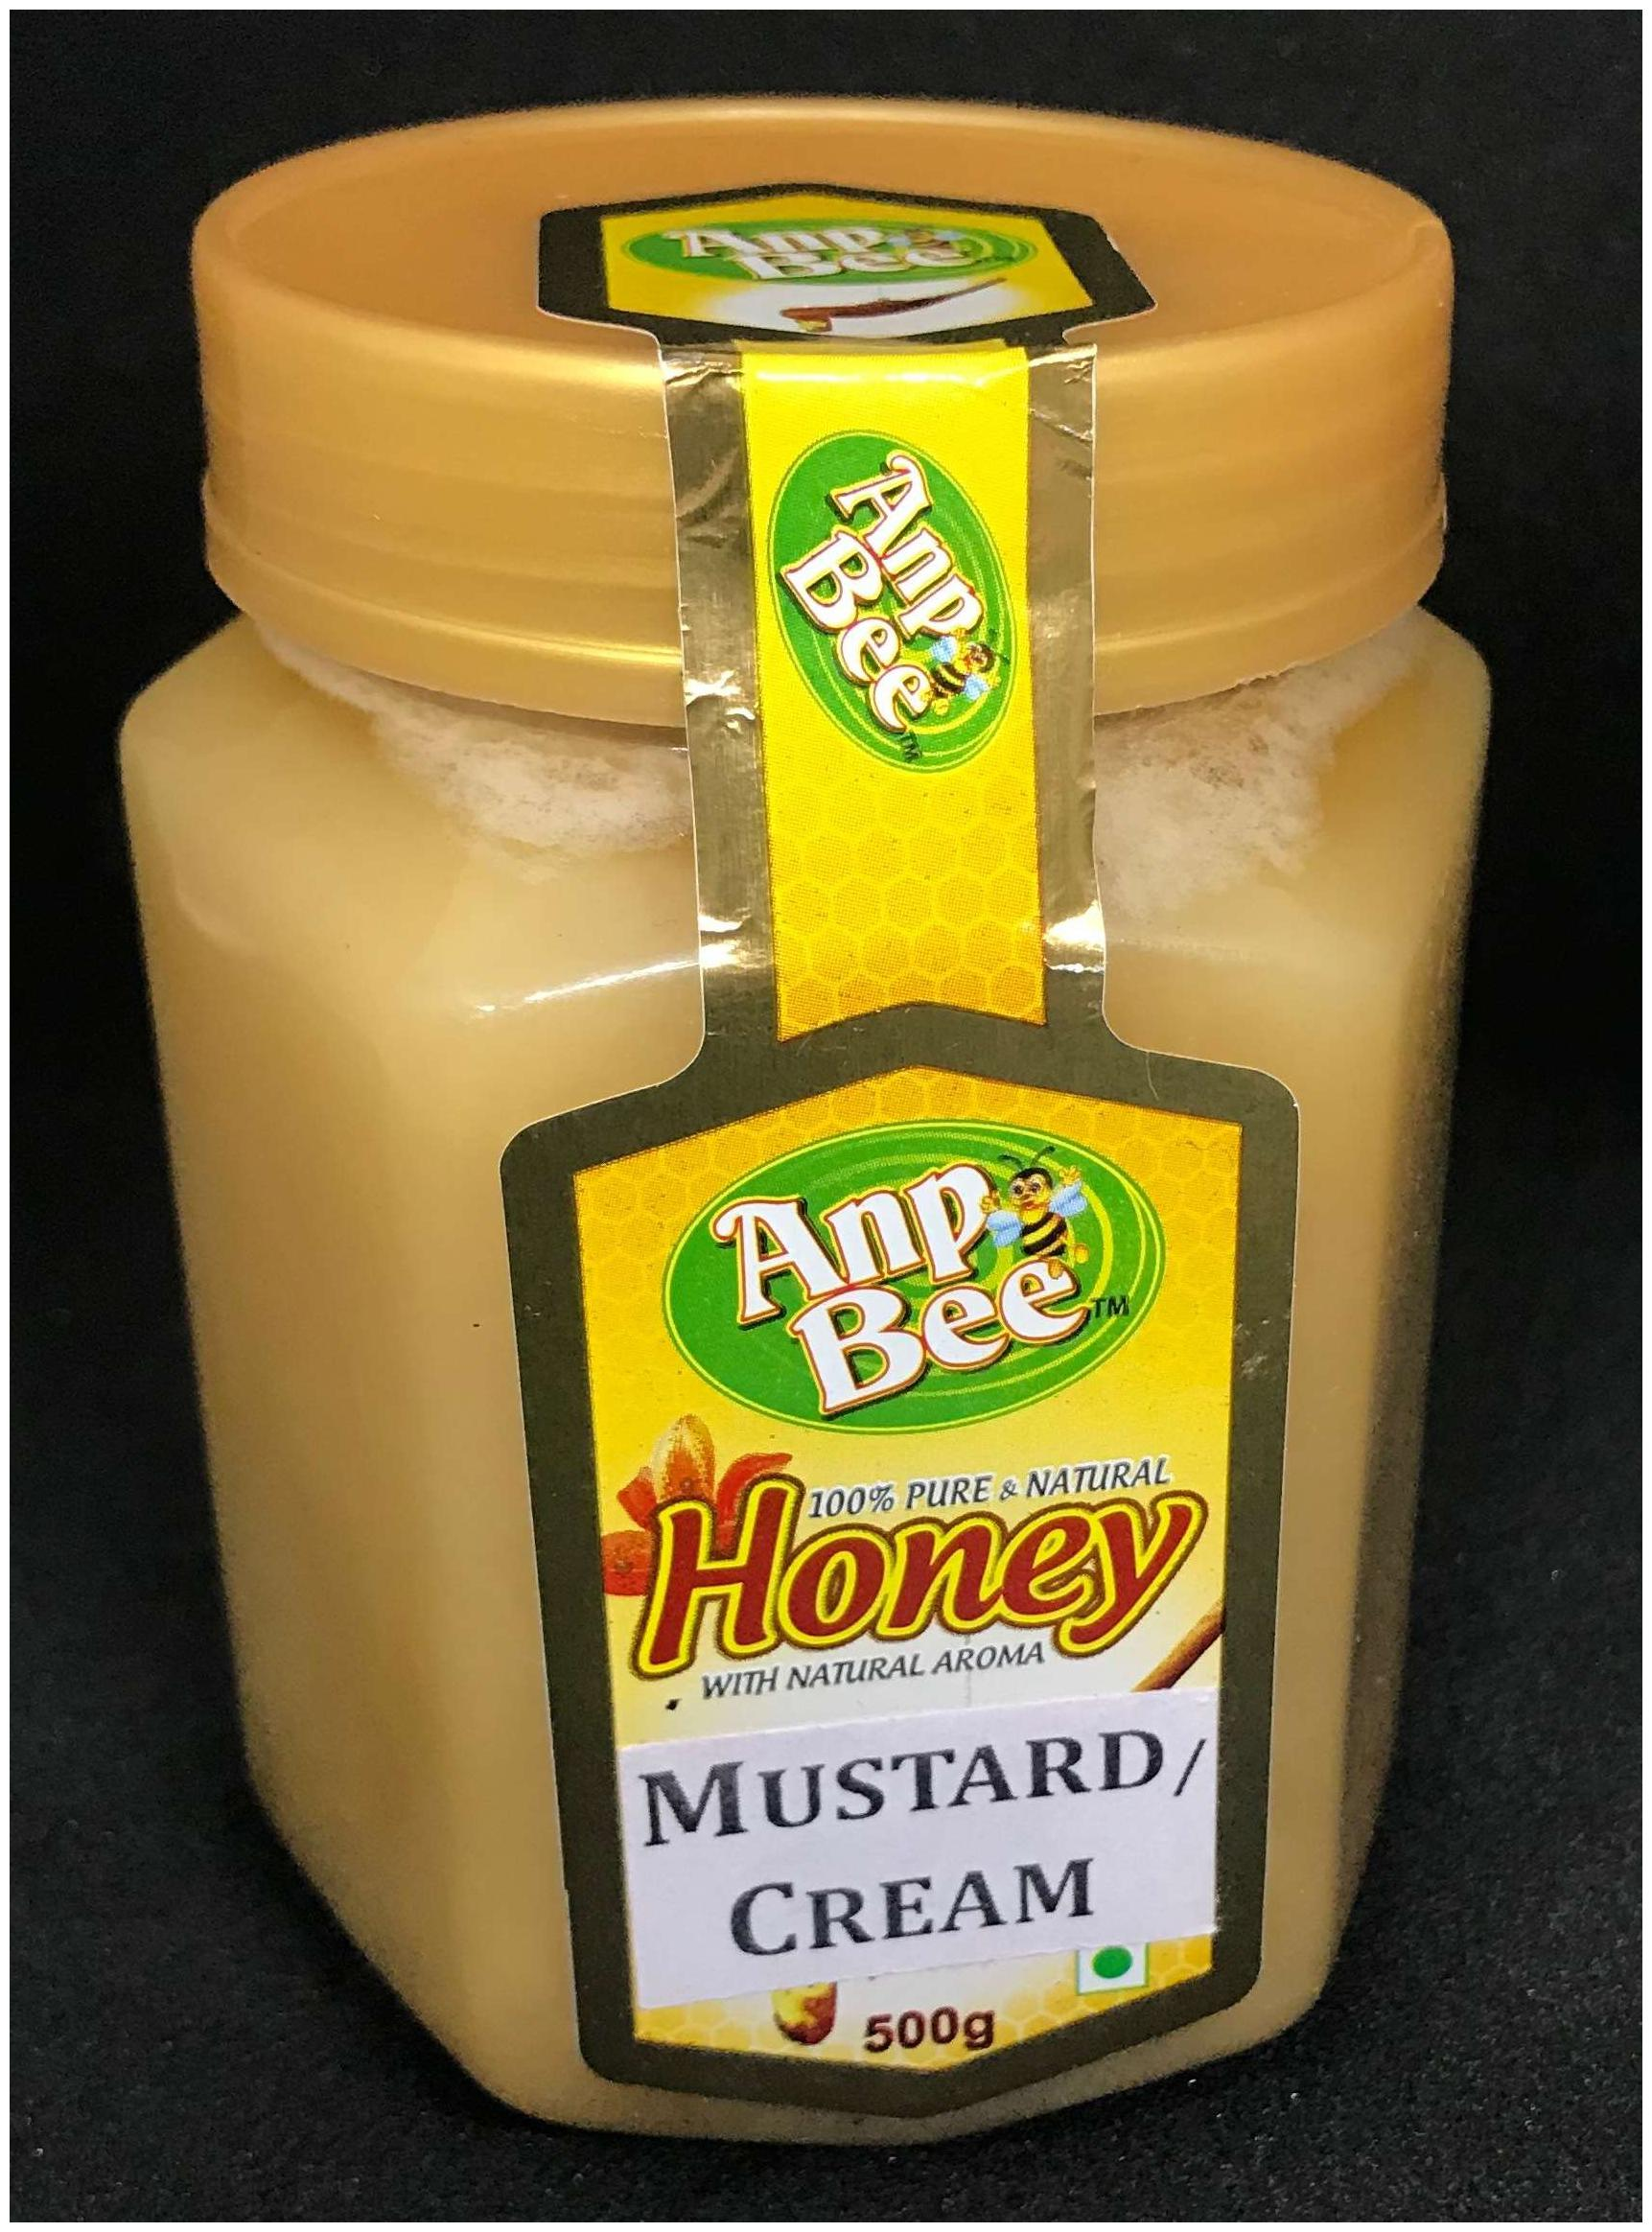JAR: (94, 83, 1511, 2161)
